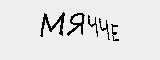Е: (109, 24, 122, 41)
М: (41, 10, 66, 36)
Ч: (98, 17, 110, 39)
Я: (67, 12, 86, 35), (87, 14, 100, 38)
